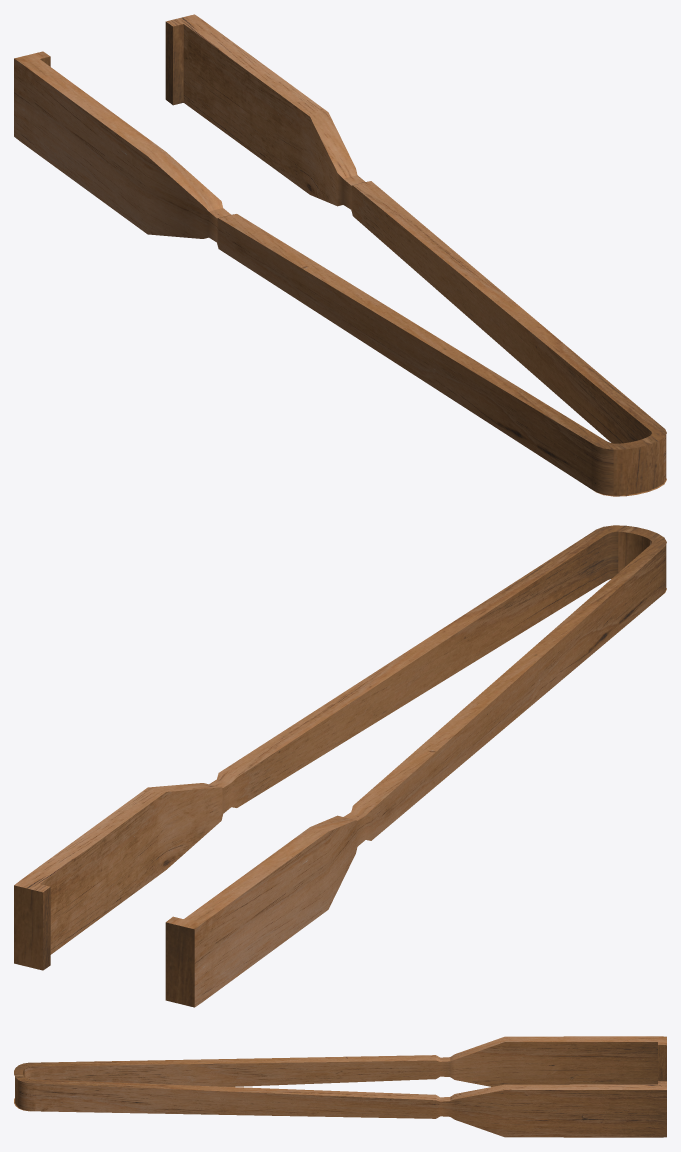
The model's file is grab_tool.fbx.
The picture shows the model from 3 angles, top to bottom: view 1: azimuth 30°, elevation 25°; view 2: azimuth 150°, elevation 25°; view 3: azimuth 270°, elevation 25°; orthographic projection. The views are drawn at different scales.
Visible parts, largest first — view 1: GrabTool; view 2: GrabTool; view 3: GrabTool.
Part boxes in pixels (x1,y1,x2,y2): GrabTool: [14, 14, 666, 496]; GrabTool: [14, 525, 666, 1007]; GrabTool: [14, 1036, 666, 1137].
Bounding box in the file's own units: 0.8849 × 0.3686 × 4.57.
1 material, 1 textured.
